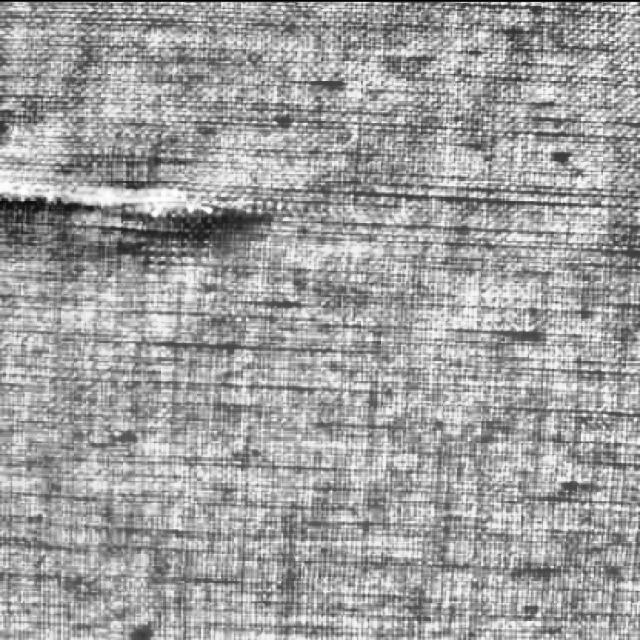thread_error: (0, 160, 280, 248)
